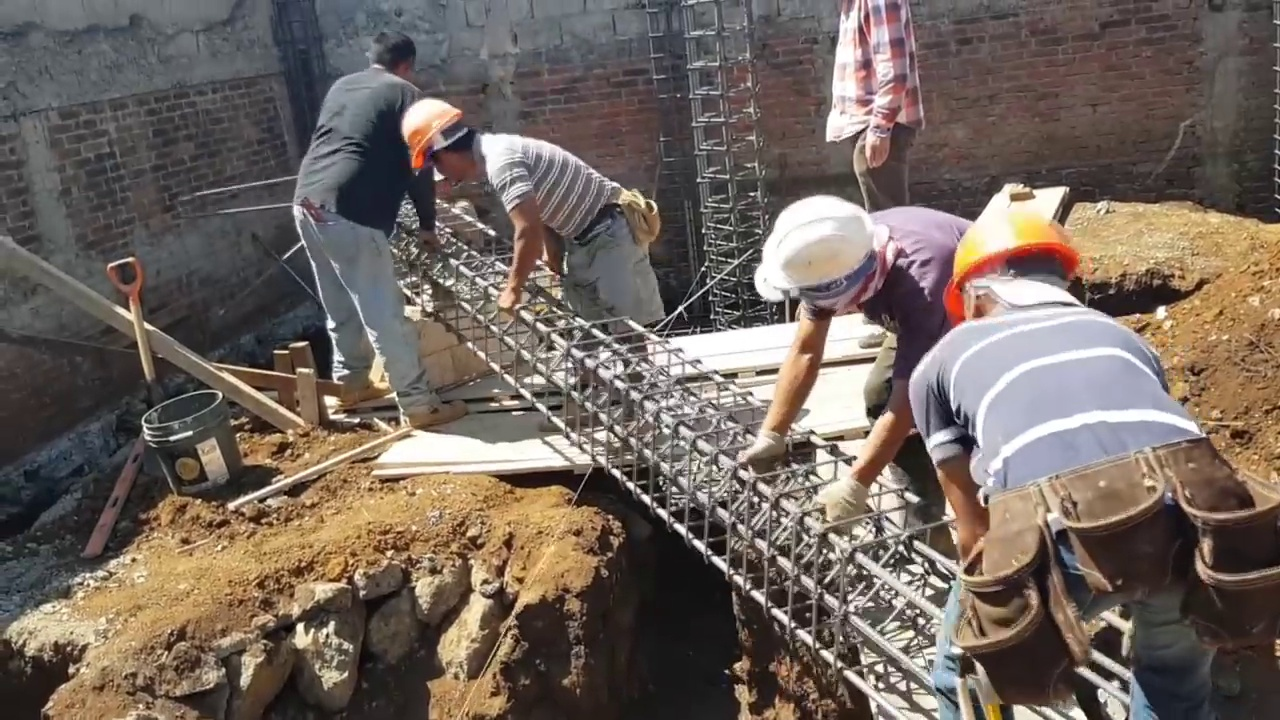helmet: (955, 189, 1088, 314), (760, 190, 875, 305), (399, 105, 458, 174)
helmet-off: (373, 30, 416, 80)
helmet-on: (939, 178, 1087, 339), (756, 189, 905, 323), (391, 104, 486, 195)
person: (883, 175, 1272, 720), (732, 198, 973, 520), (388, 90, 651, 364), (299, 39, 451, 406), (830, 4, 923, 219)
